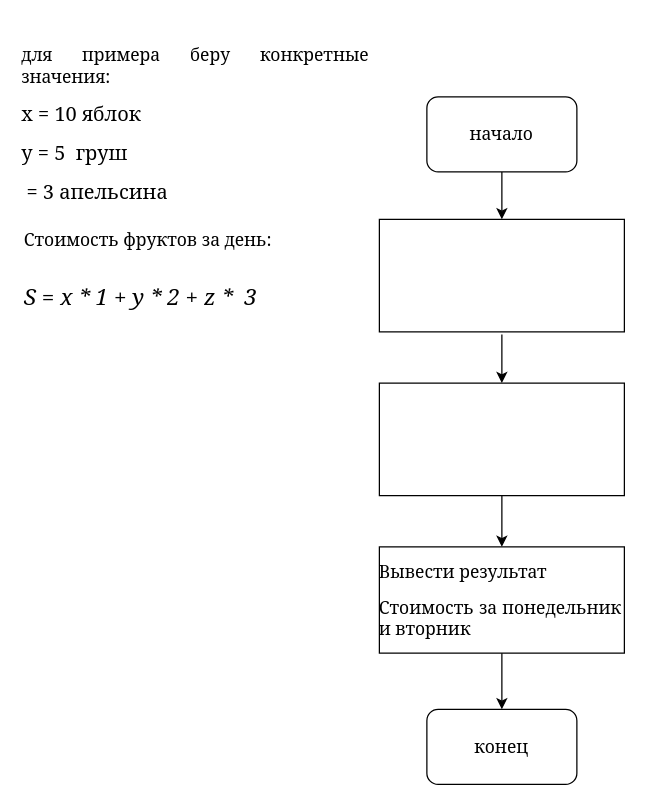
Some shapes in this 646 by 806 pixel diagram are drawn without their labels. Here are the shapes that lost their labels. From the top down, the centre of each, then its label:
At pixel 501 275: "Задать значения x = 10, y = 5, z = 3".
At pixel 501 439: "Вычислить стоимость S = x * 1 + y * 2 + z * 3".
